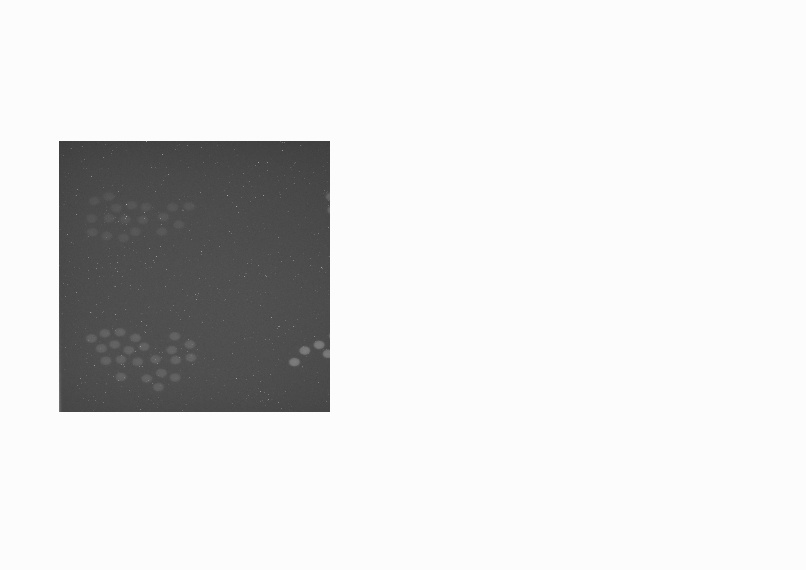cluster: (86, 327, 198, 391), (86, 192, 195, 243), (288, 340, 330, 367), (325, 192, 330, 213)
